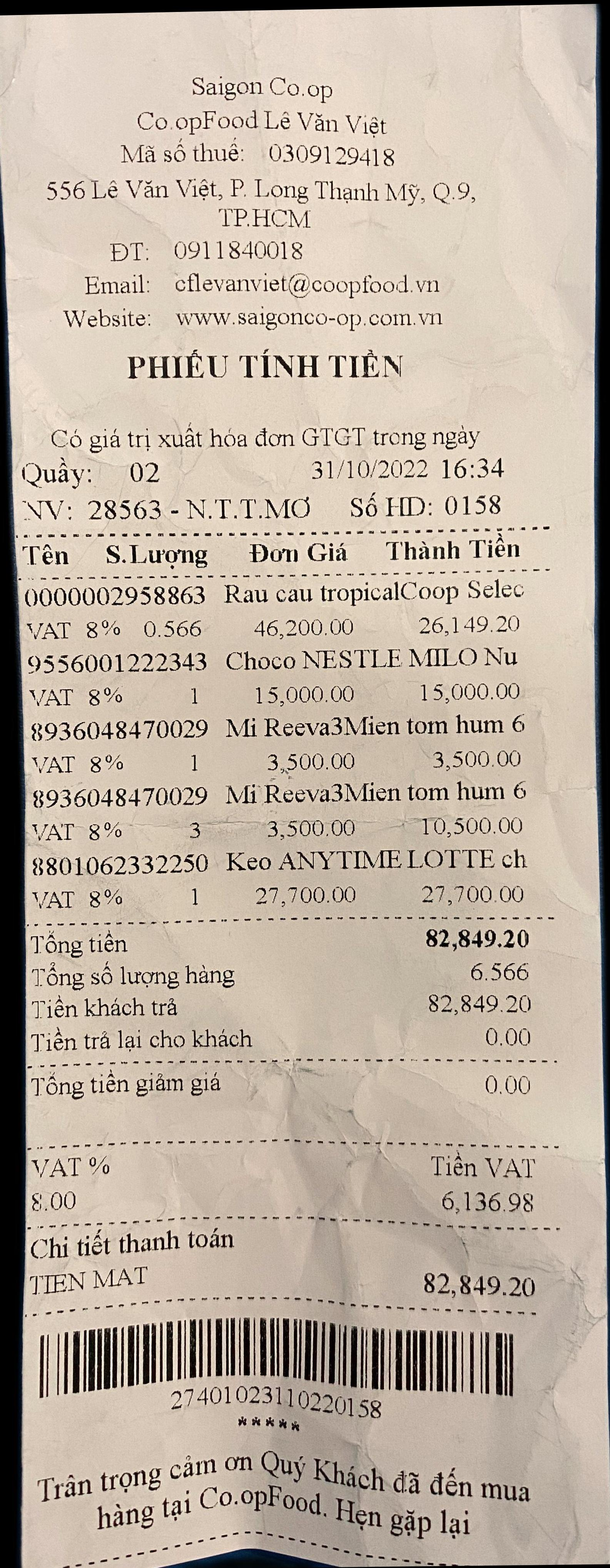Date: (287, 455, 440, 493)
Store_Name: (169, 64, 395, 108)
Total_Amount: (15, 921, 568, 966)
